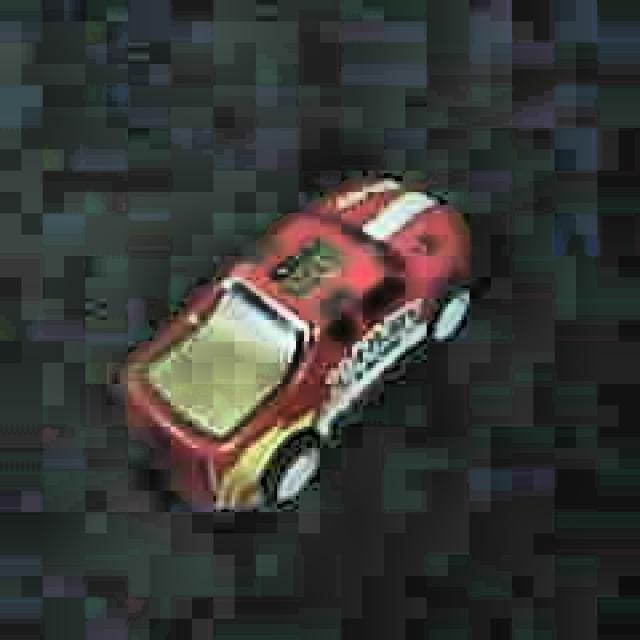car: (120, 167, 478, 521)
